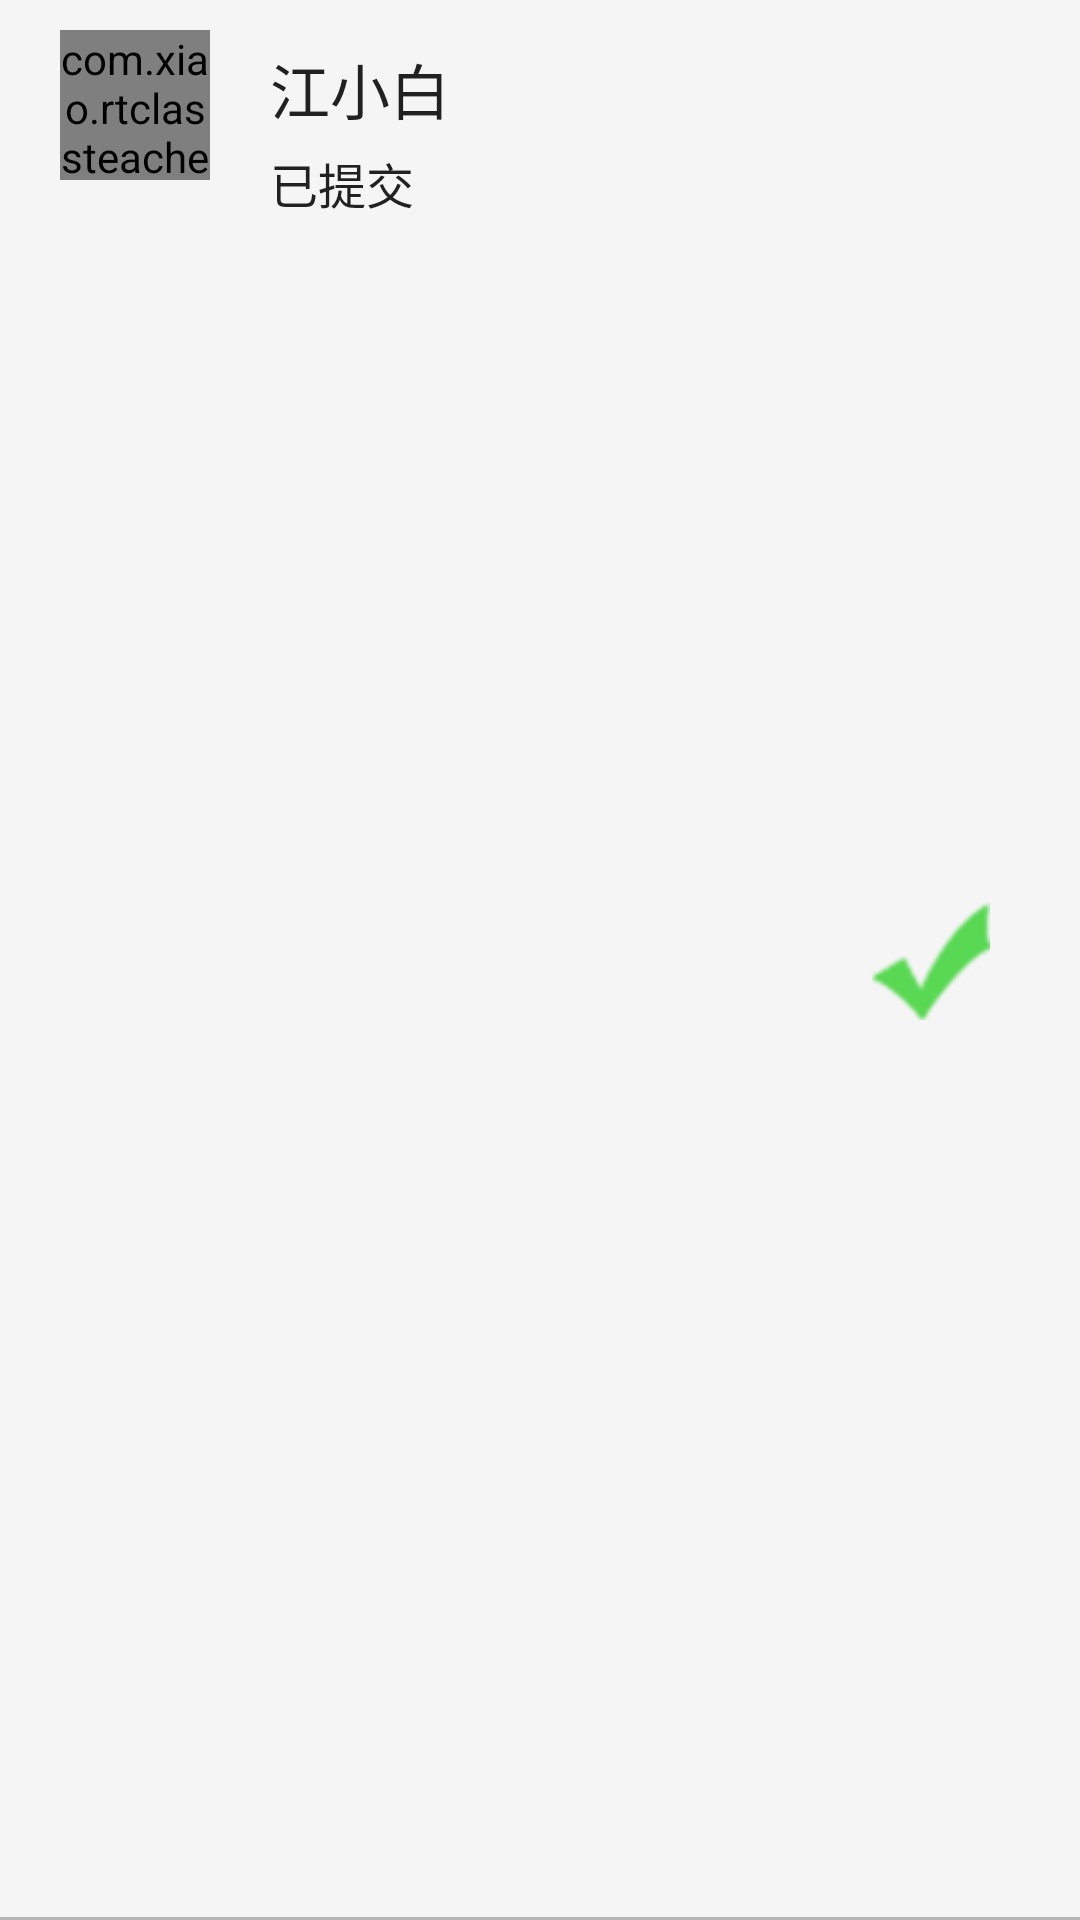

Named icons in this screenshot (1080x1920) and their centers, point (x, y):
choose: point (931, 961)
